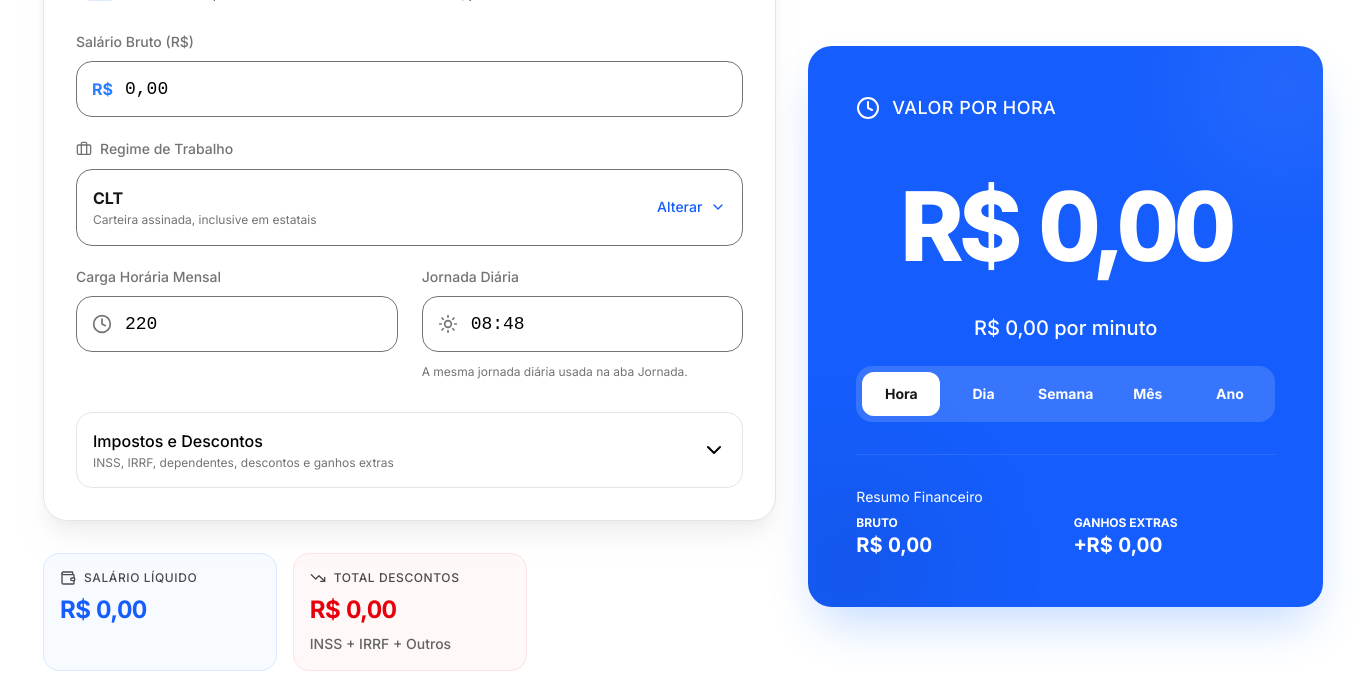
Scenario: SalaryCalculator › reveals the taxes and deductions panel on demand
Expected: the field labelled "INSS (R$)" is not shown
Click the button "Impostos e Descontos". click: {"x": 178, "y": 440}
box: [76,412,743,488]
(page scrolled)
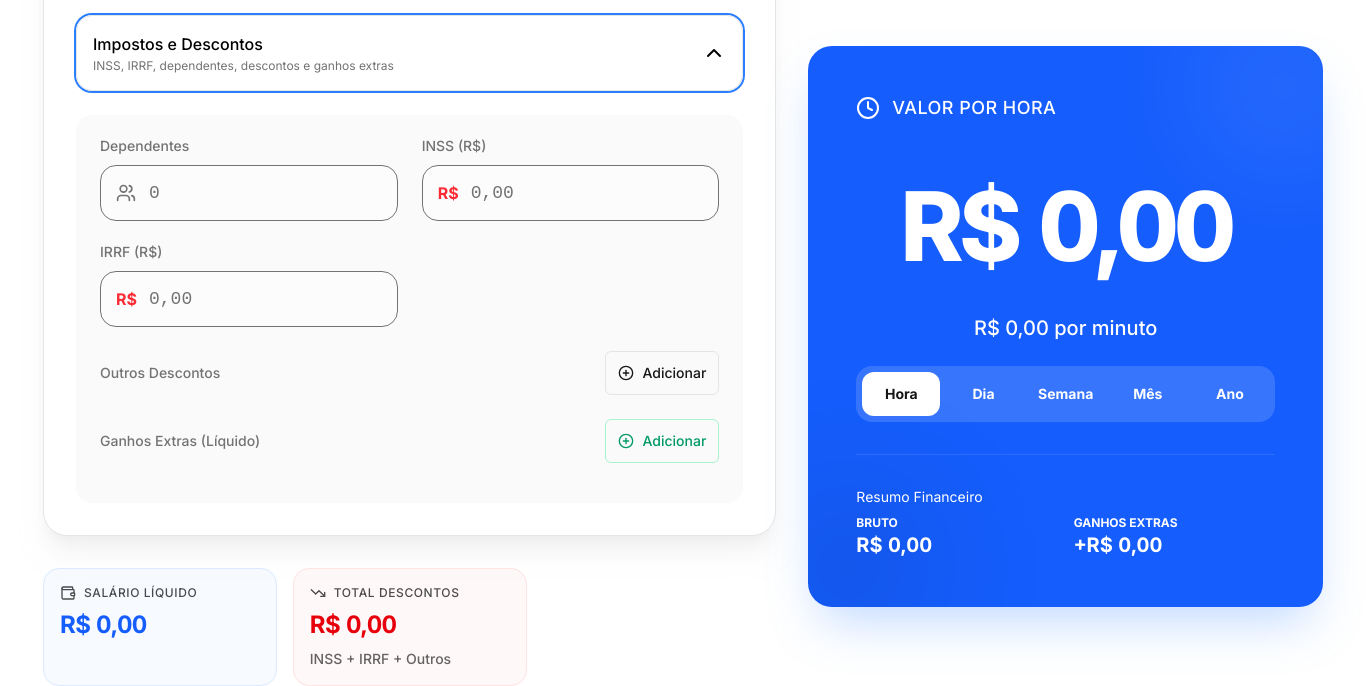
Now the button "Impostos e Descontos" is expanded, box [76,14,743,90]
Now the field labelled "INSS (R$)" is shown, box [422,164,719,220]
Now the text "Outros Descontos" is shown, box [100,362,220,382]
